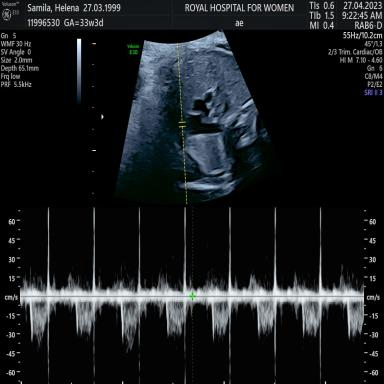Ultrasound-Waves: (28, 206, 363, 384)
